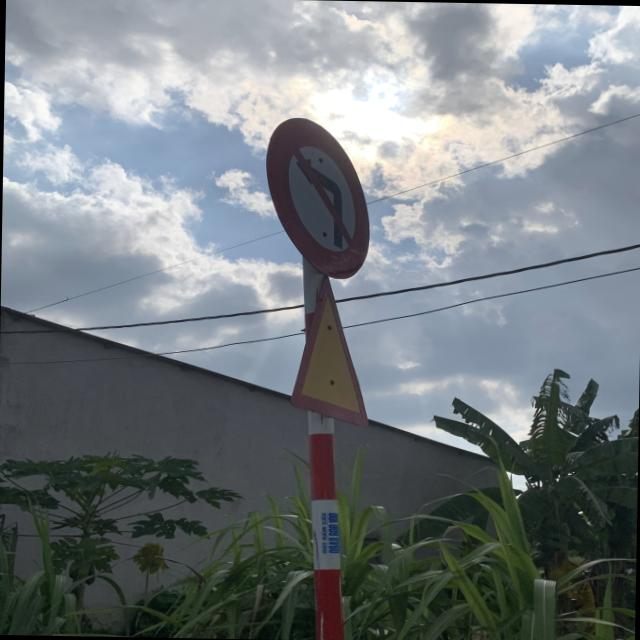Cam_Re_Trai: (267, 115, 381, 279)
Gioi_Han_Toc_Do_25: (288, 276, 376, 427)
